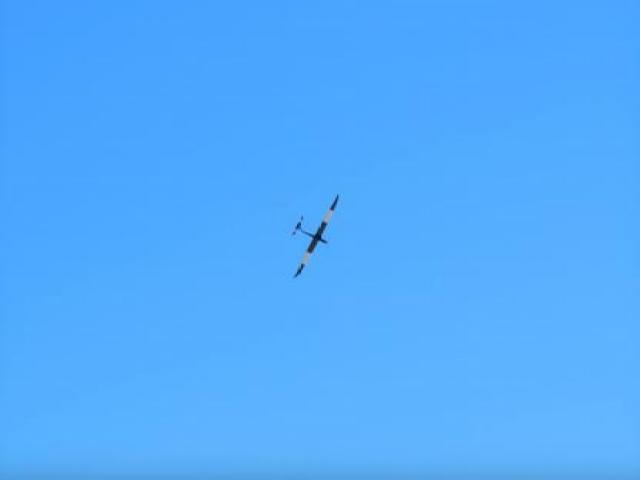uav: (292, 196, 338, 278)
